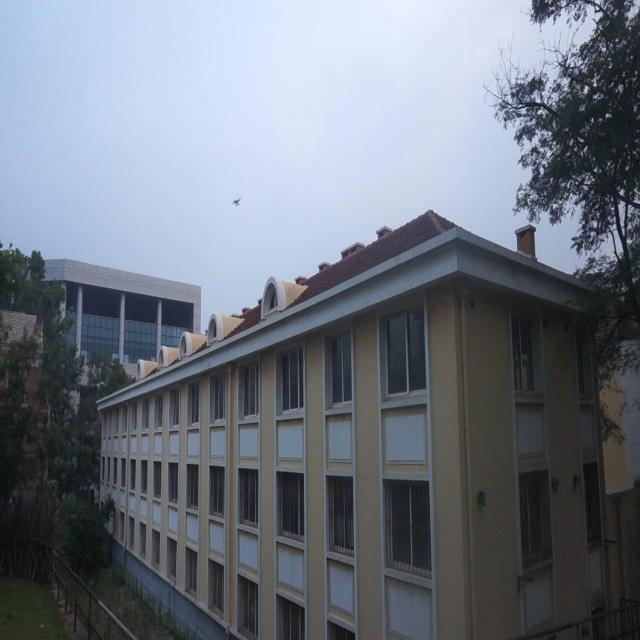drone: (228, 193, 244, 209)
